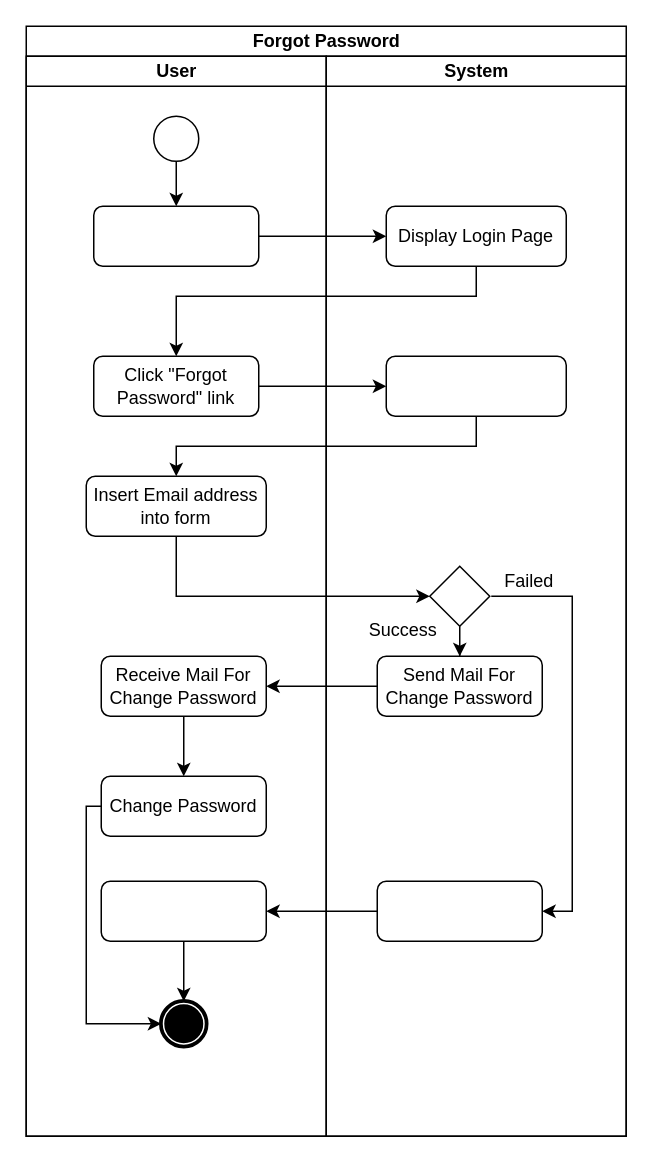
This 653x1163 diagram has some shape labels left out. The shapes that lost their labels are listed below. From the top down, each one's centre as x and y in pixels, then its label:
the point at 175,235: Enter Application
the point at 475,385: Display Forgot Password Page
the point at 183,910: Receive Failed Notification
the point at 459,910: Send Failed Notification
